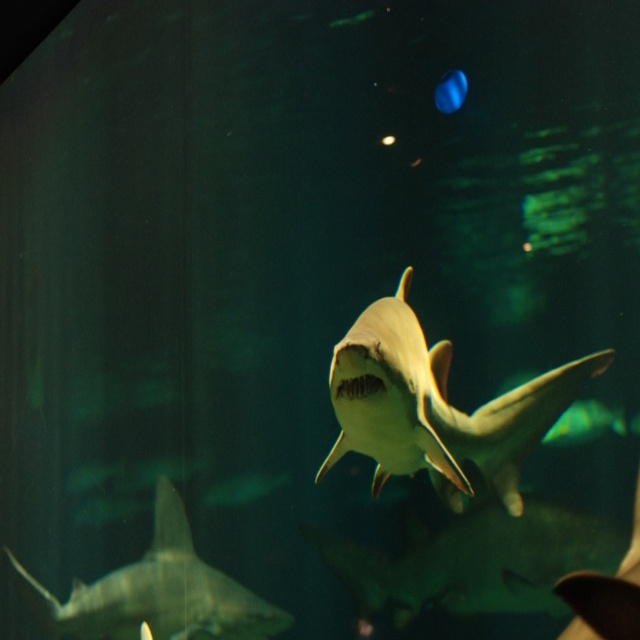Shark: (306, 268, 612, 535), (1, 470, 293, 639)
